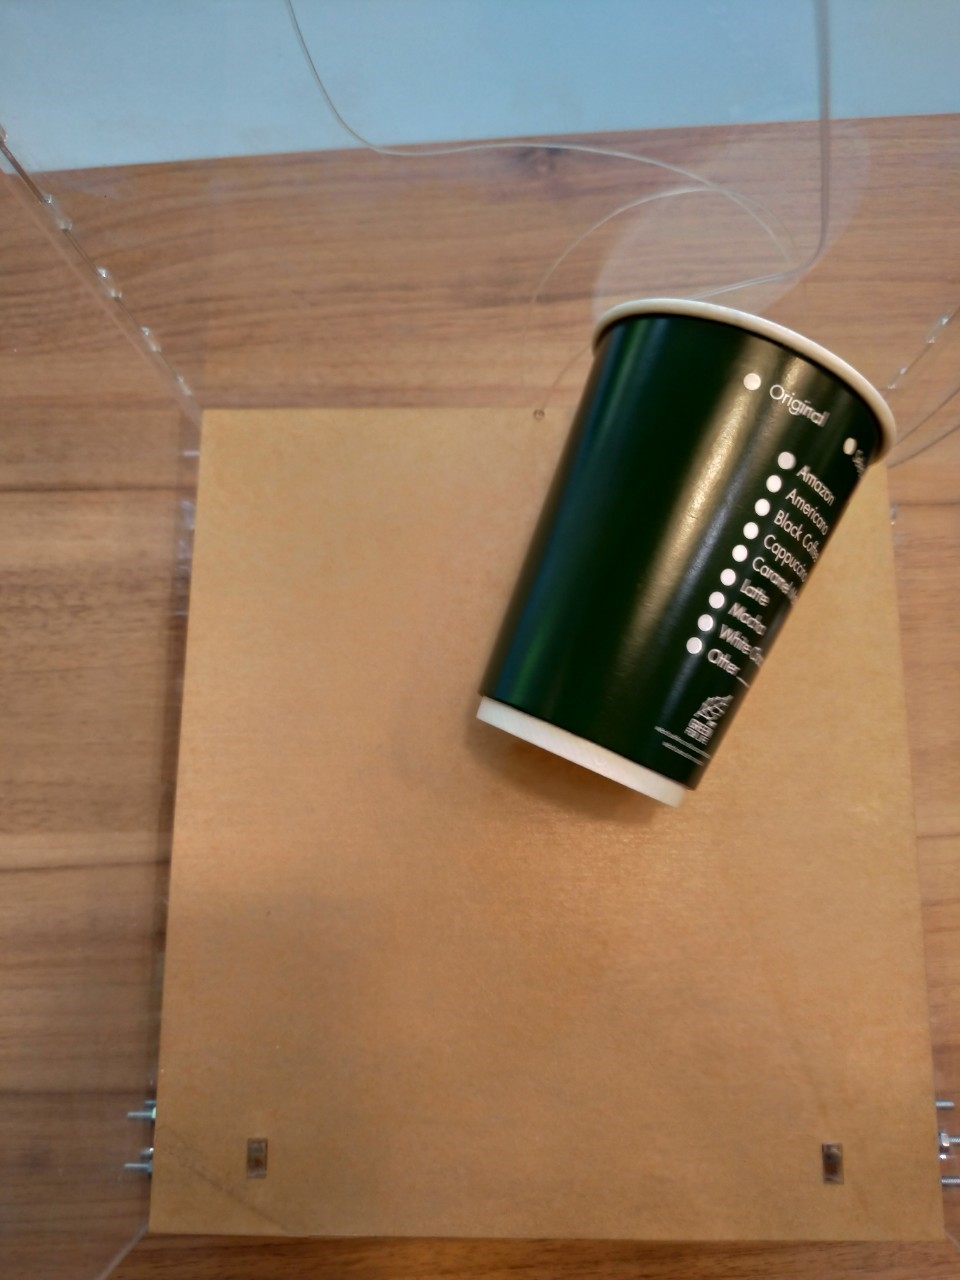PaperCup: (477, 296, 899, 808)
